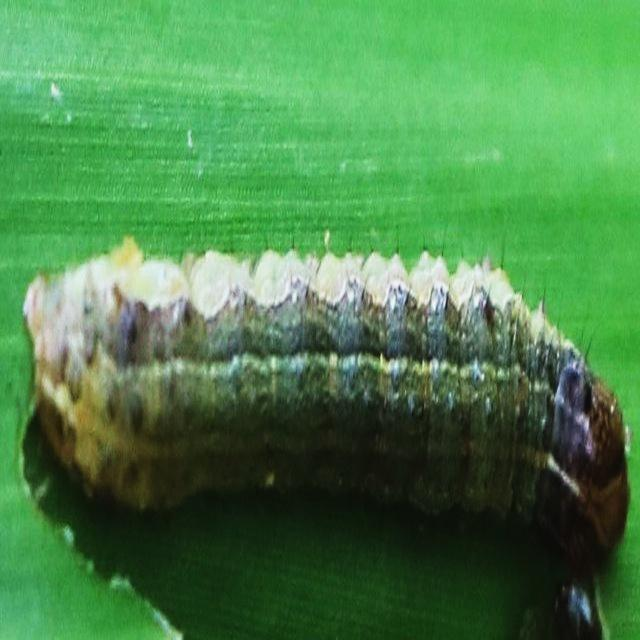gusano_cogollero: (23, 234, 632, 575)
